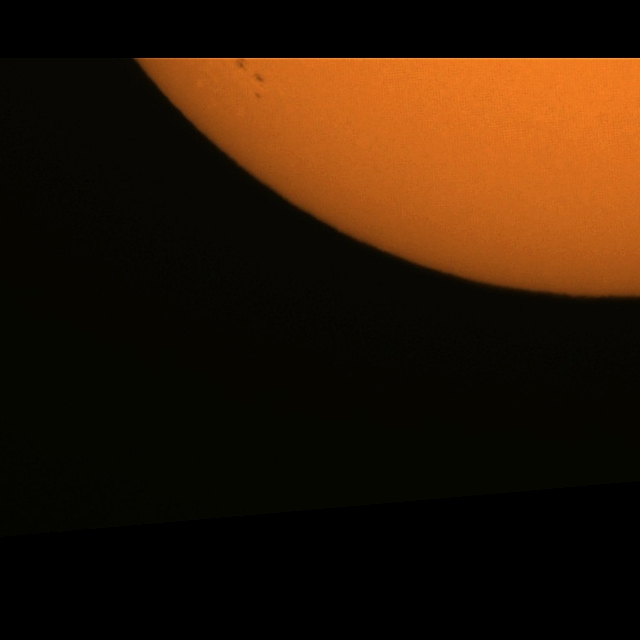sunspot: (237, 61, 266, 95), (250, 69, 267, 99), (254, 91, 263, 100)
